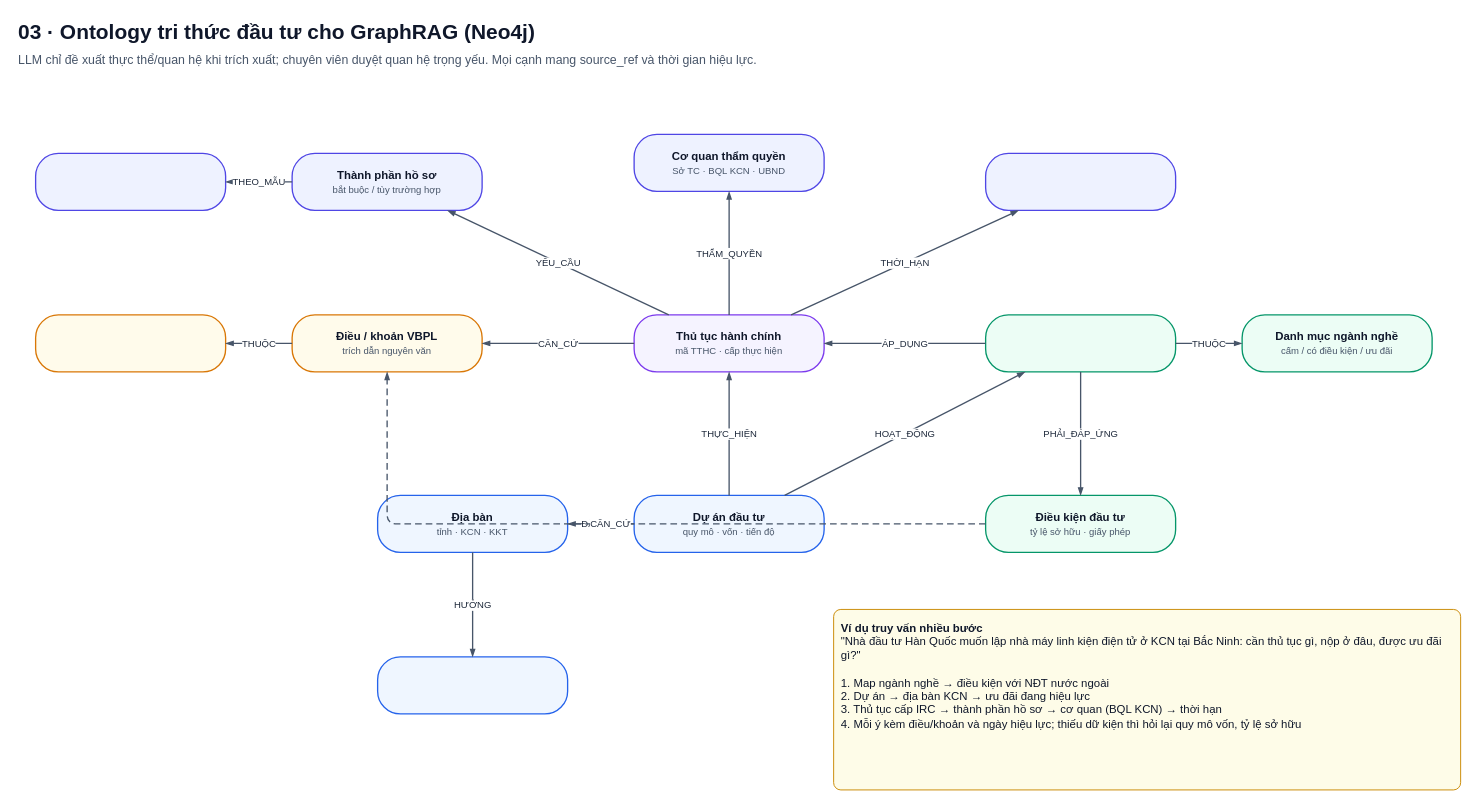
Image size: 1477x807. Some labels were removed from this diagram. Here are the shapes that lost their labels. From the top down, the centre of each, then its label:
At (130,181): "Biểu mẫu mẫu số · phiên bản".
At (1080,181): "Thời hạn giải quyết ngày làm việc".
At (130,343): "Văn bản pháp luật hiệu lực từ / đến".
At (1080,343): "Ngành nghề kinh doanh mã ngành VSIC".
At (472,685): "Ưu đãi đầu tư thuế · đất · thủ tục".
